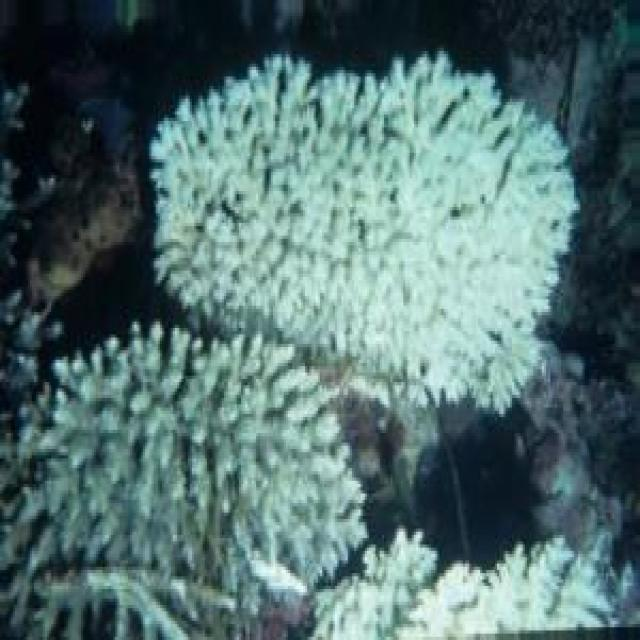bleached coral: (151, 54, 575, 410), (20, 325, 365, 592), (316, 530, 615, 638)
